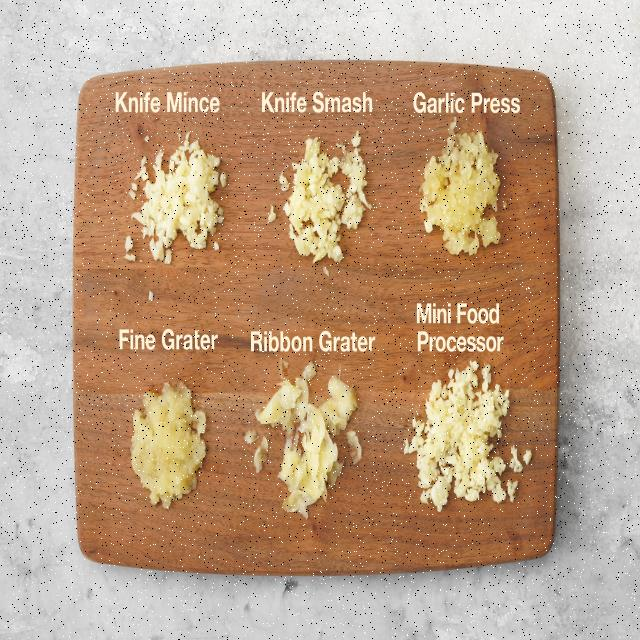Garlic: (232, 361, 354, 517), (114, 136, 246, 264), (402, 370, 532, 486), (399, 115, 509, 235), (272, 154, 379, 257), (119, 389, 203, 506)
